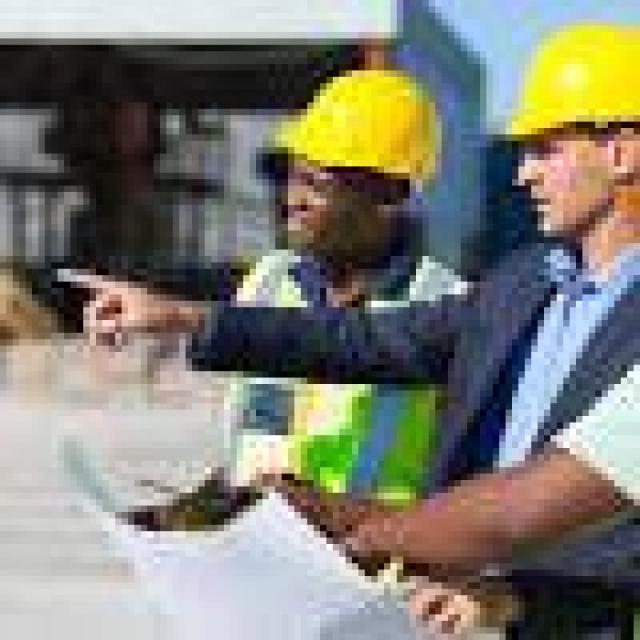Reflective-Jacket: (198, 243, 480, 544)
Safety-Helmet: (243, 64, 474, 205), (0, 0, 422, 70), (480, 13, 640, 160)
